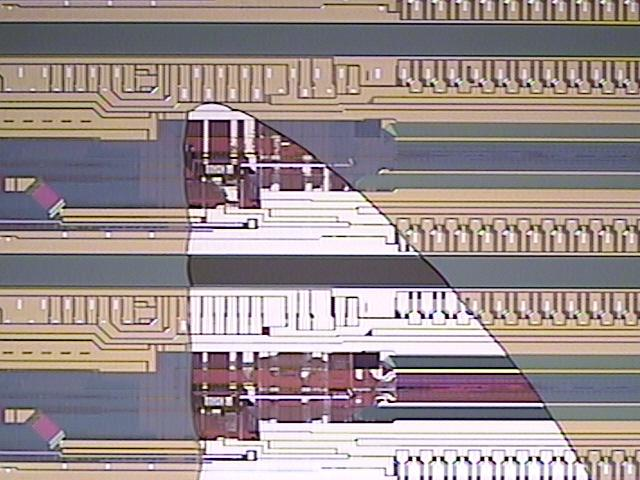COATING BAD: (180, 99, 594, 480)
